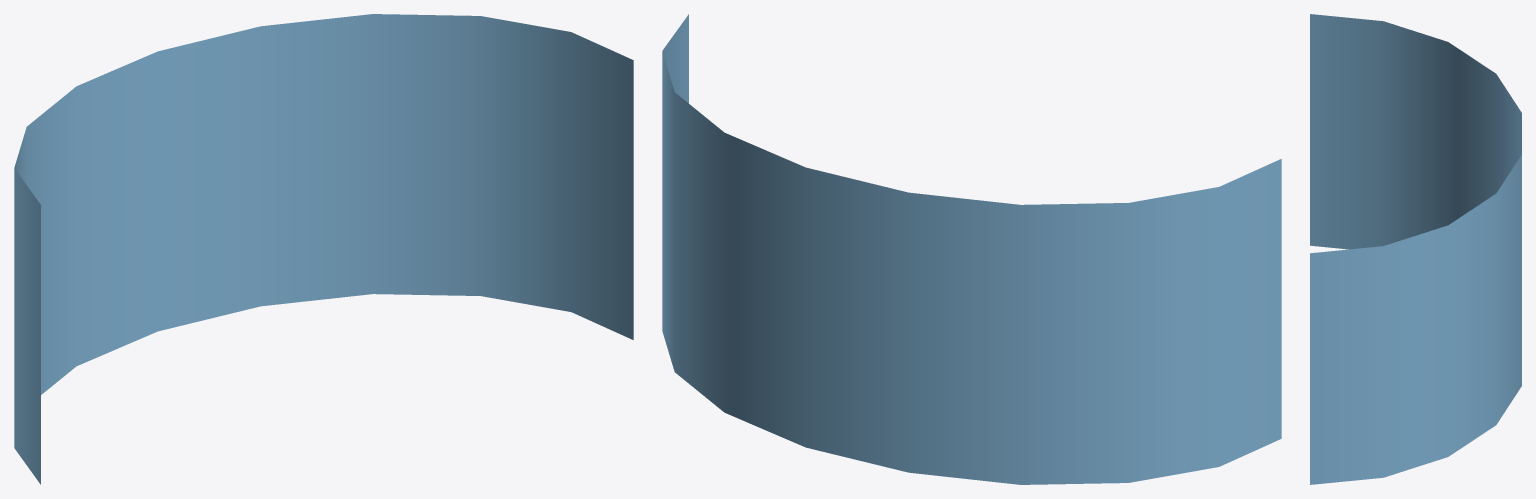
The model's file is LevelBack.fbx.
3 views of the same model, side by side, from view 1: azimuth 30°, elevation 25°; view 2: azimuth 150°, elevation 25°; view 3: azimuth 270°, elevation 25° (orthographic). The views are drawn at different scales.
Parts seen in each view (by area): view 1: Cylinder007; view 2: Cylinder007; view 3: Cylinder007.
Part boxes in pixels (x1=…): Cylinder007: x1=14, y1=14, x2=633, y2=484; Cylinder007: x1=662, y1=14, x2=1281, y2=484; Cylinder007: x1=1310, y1=14, x2=1521, y2=484.
Size of the model in its own units: 1621 by 732 by 606.
